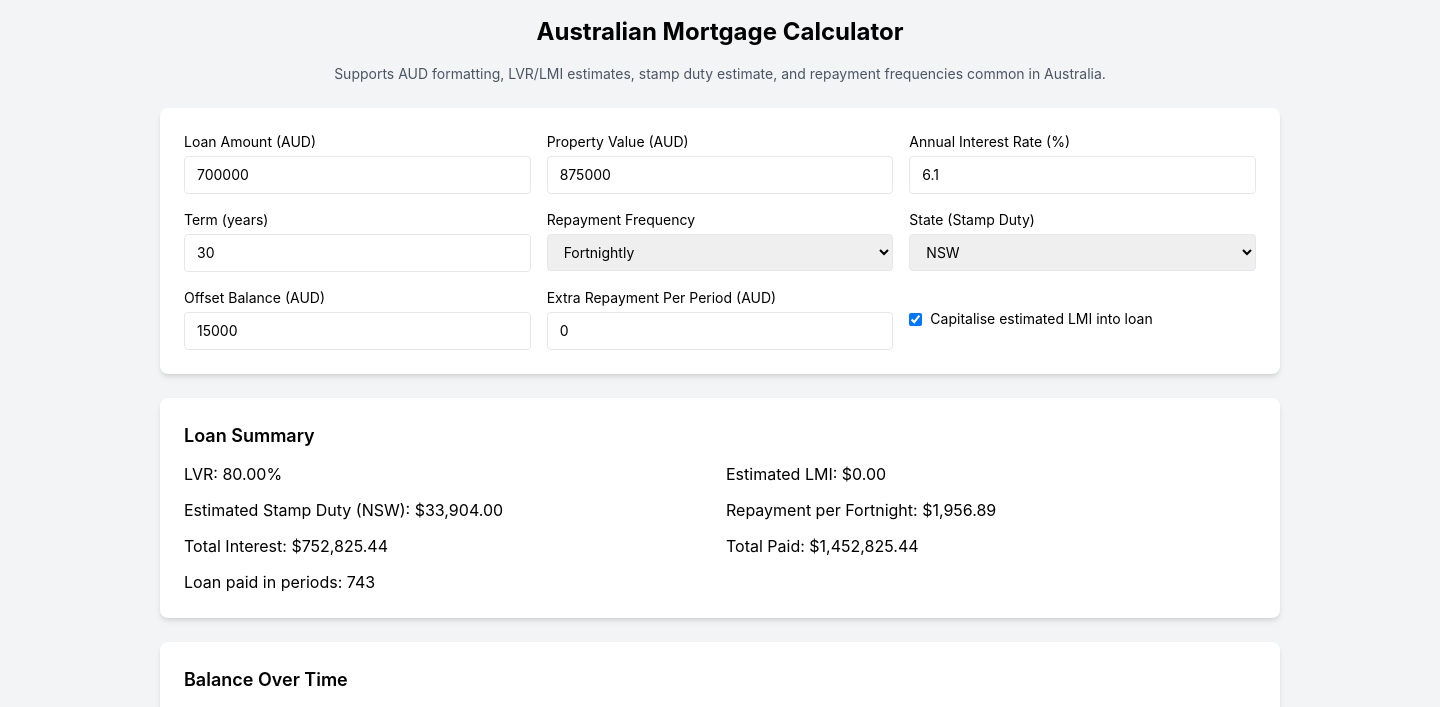
it: App — state dropdown › changing state updates the stamp duty label
This screenshot has width=1440, height=707.
Select "VIC" in the dropdown labelled "State (Stamp Duty)" at (1083, 252), box [909,234,1256,271]
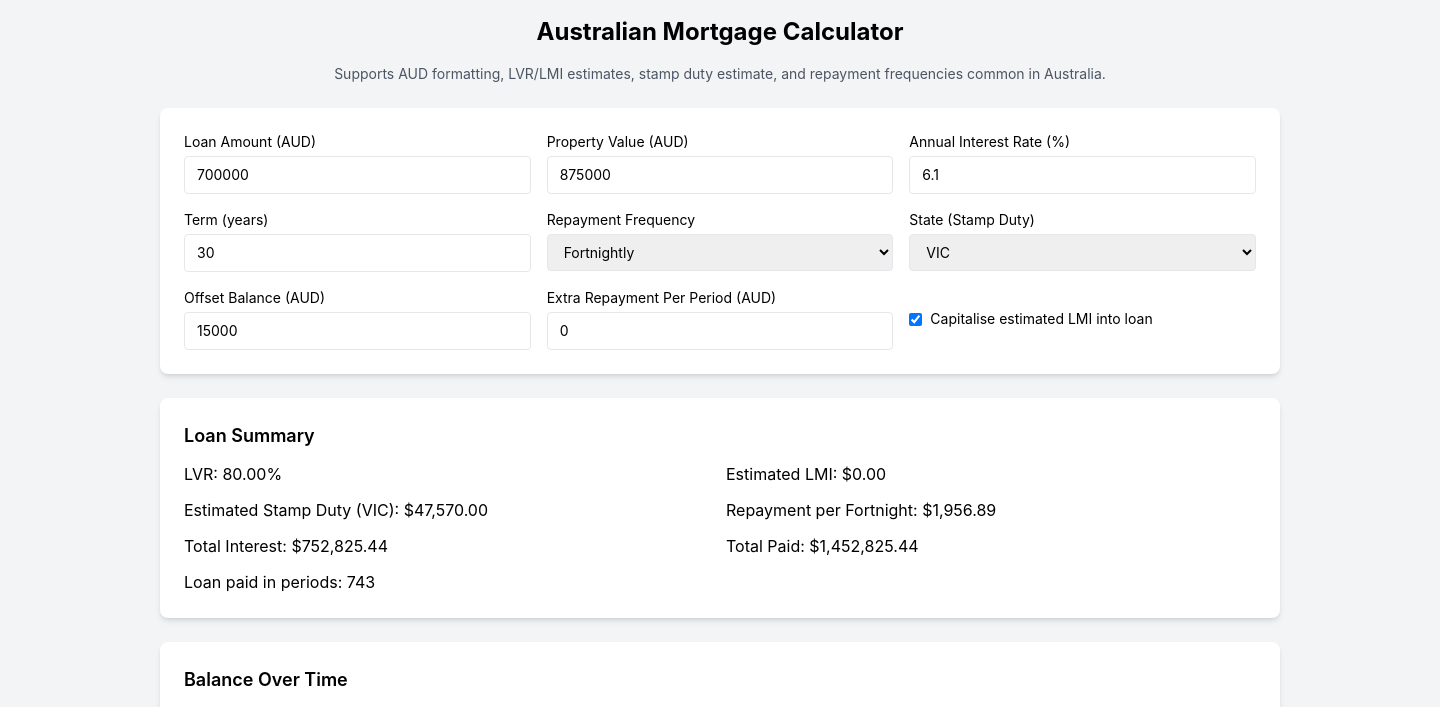
Check: the text "Estimated Stamp Duty (VIC): $47,570.00" is shown, box [184,500,488,520]
